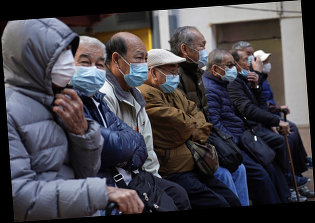mask_weared_incorrect: (239, 56, 252, 78)
with_mask: (71, 52, 107, 99), (49, 46, 76, 89), (122, 49, 150, 90), (159, 64, 181, 95), (191, 38, 210, 69), (218, 58, 239, 84), (245, 49, 256, 69), (261, 59, 273, 75)
